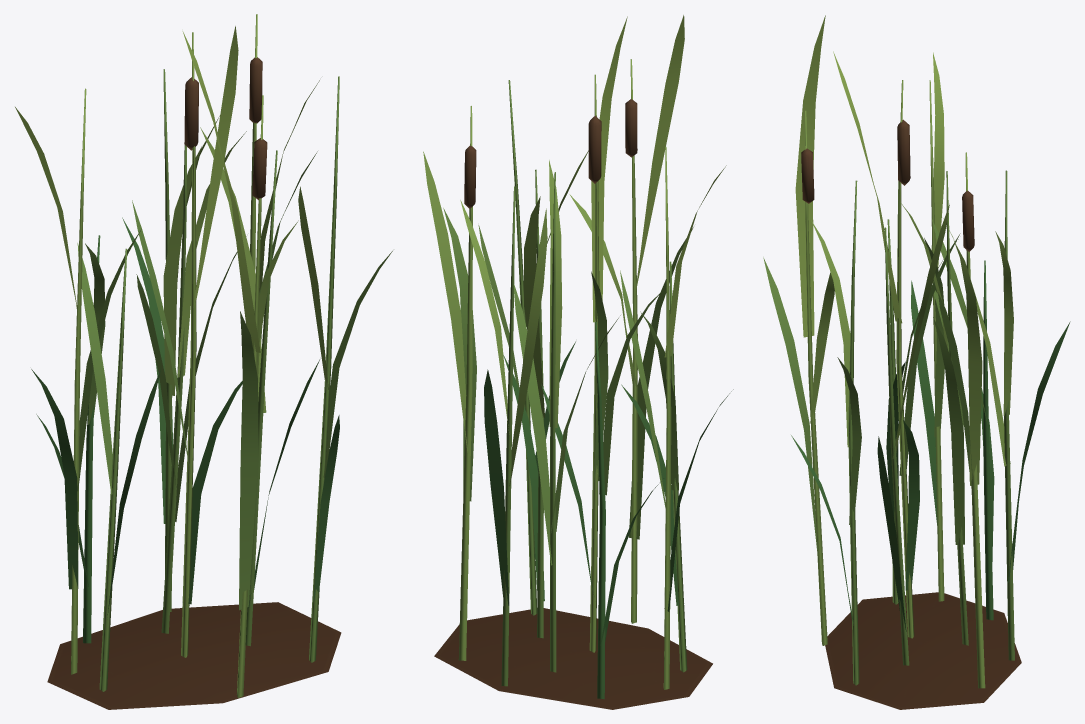
The model's file is reeds_2.glb.
3 views of the same model, side by side, from view 1: azimuth 30°, elevation 25°; view 2: azimuth 150°, elevation 25°; view 3: azimuth 270°, elevation 25° (orthographic). The views are drawn at different scales.
Parts seen in each view (by area): view 1: reeds_2; view 2: reeds_2; view 3: reeds_2.
Boxes of the visible parts, <box> form: reeds_2: <box>15,14,392,709</box>; reeds_2: <box>423,15,733,709</box>; reeds_2: <box>763,15,1070,709</box>.
Size of the model in its own units: 1.2 by 2.4 by 1.1.
Materials: 2 (2 with a texture image).
